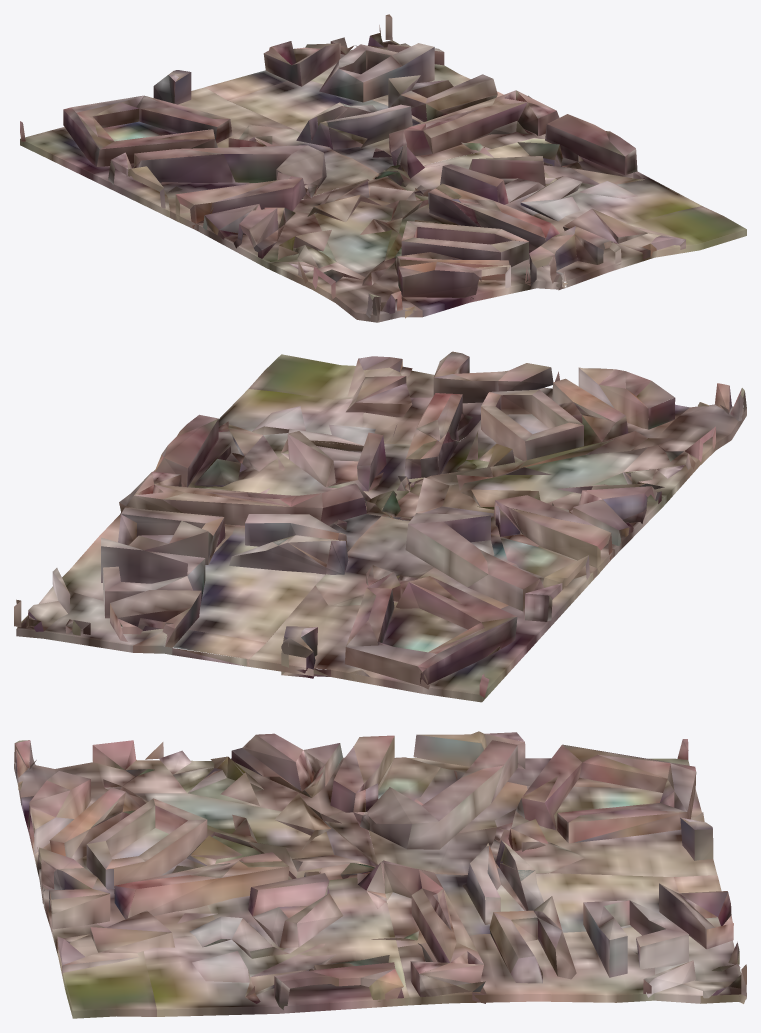
3 views of the same model, one above another, from view 1: azimuth 30°, elevation 25°; view 2: azimuth 150°, elevation 25°; view 3: azimuth 270°, elevation 25° (orthographic). The views are drawn at different scales.
Visible parts, largest first — view 1: Mesh_0; view 2: Mesh_0; view 3: Mesh_0.
Part boxes in pixels (x1=…): Mesh_0: x1=20, y1=14, x2=746, y2=322; Mesh_0: x1=14, y1=351, x2=746, y2=702; Mesh_0: x1=14, y1=731, x2=746, y2=1018.
Bounding box in the file's own units: 540 × 77.25 × 659.
Materials: 2 (2 with a texture image).
